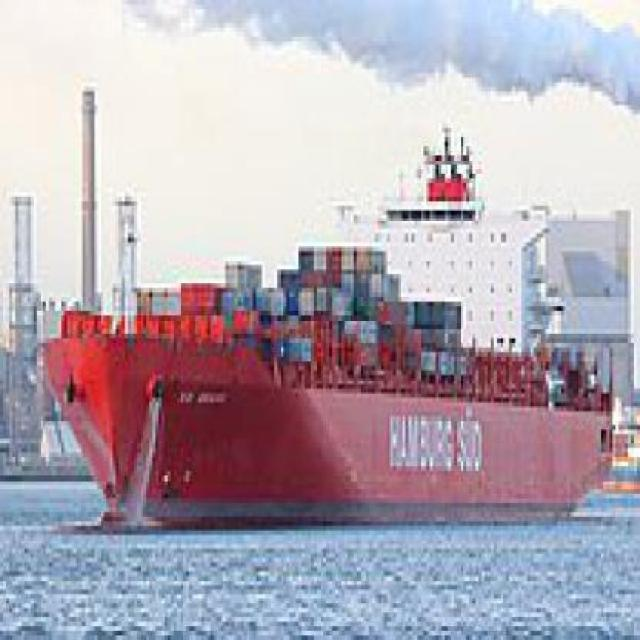container: (31, 239, 620, 536)
